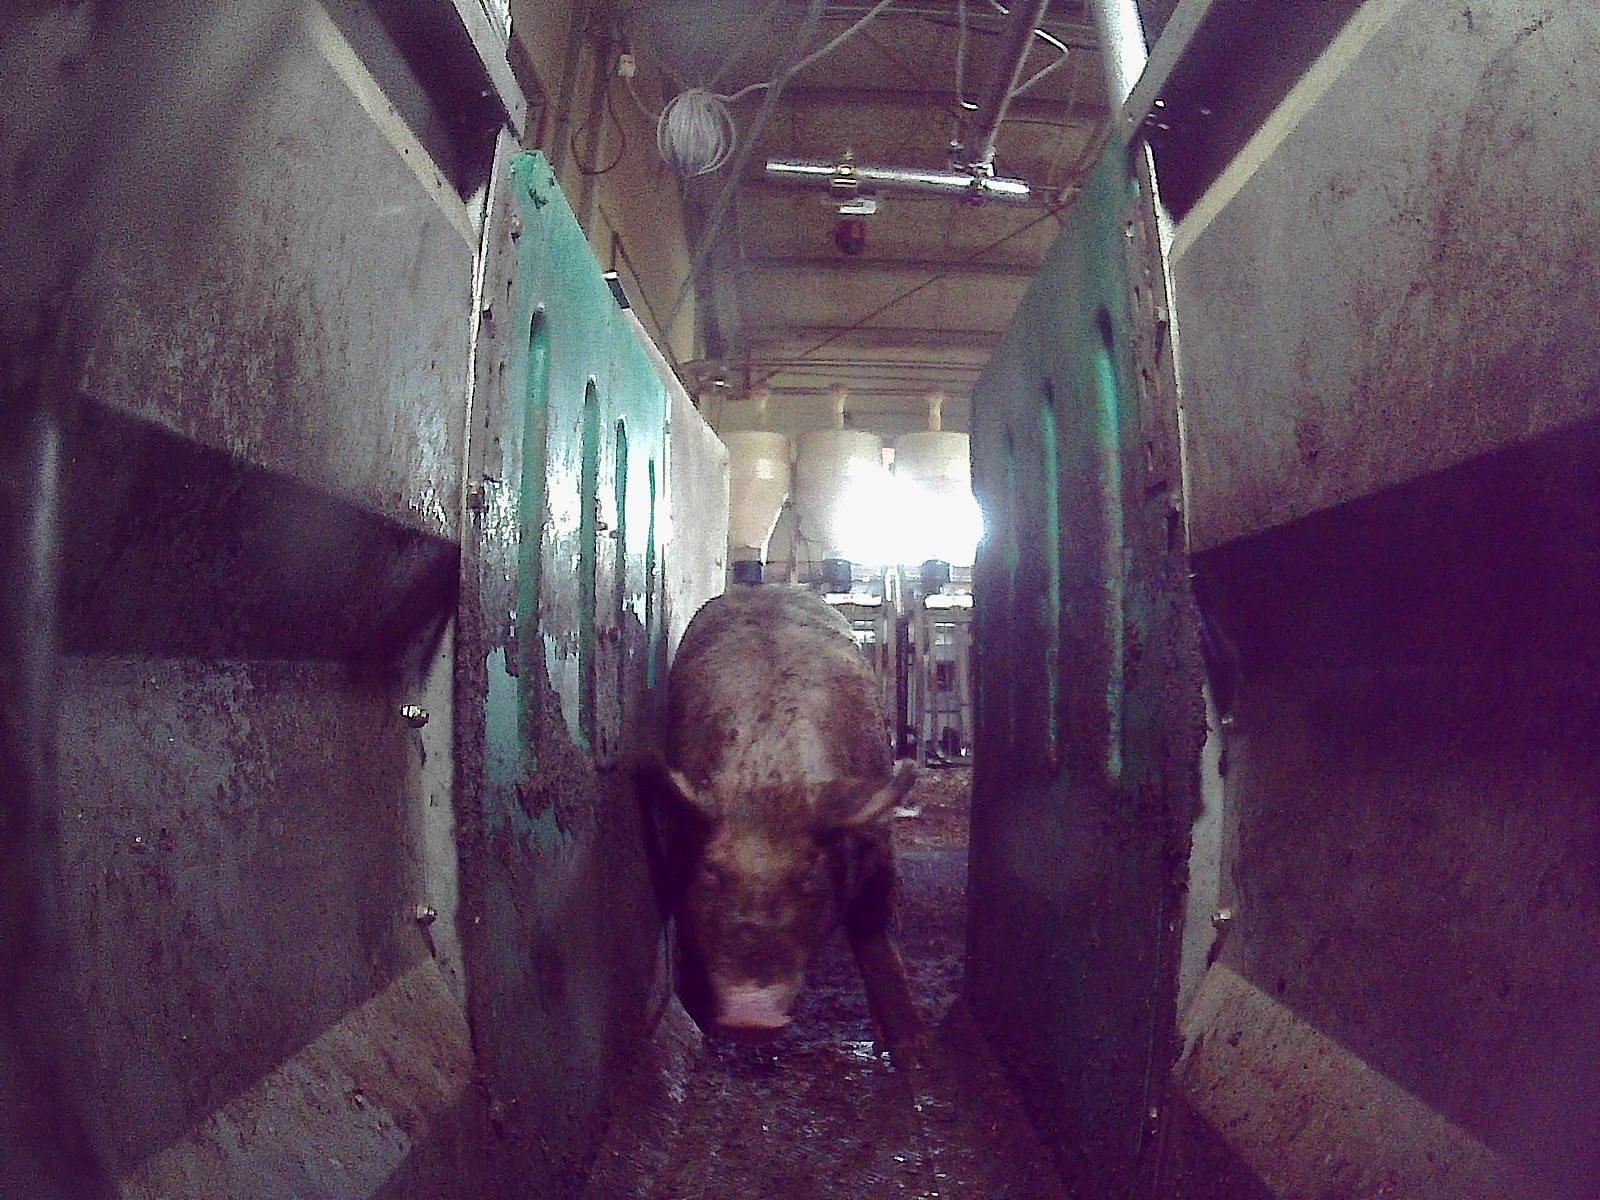Face: (683, 807, 842, 1039)
